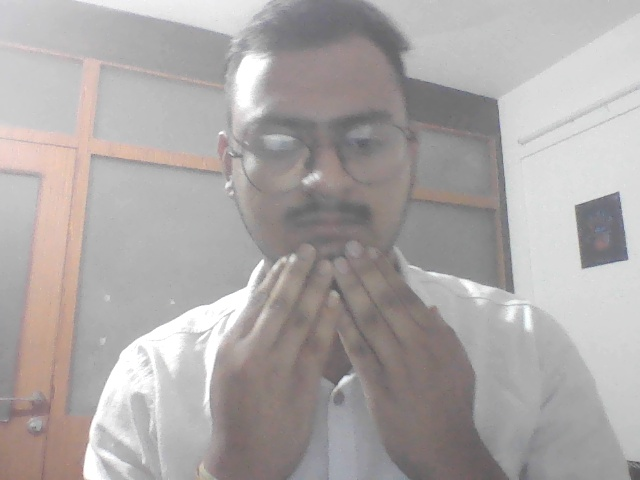ThankYou: (205, 239, 504, 480)
